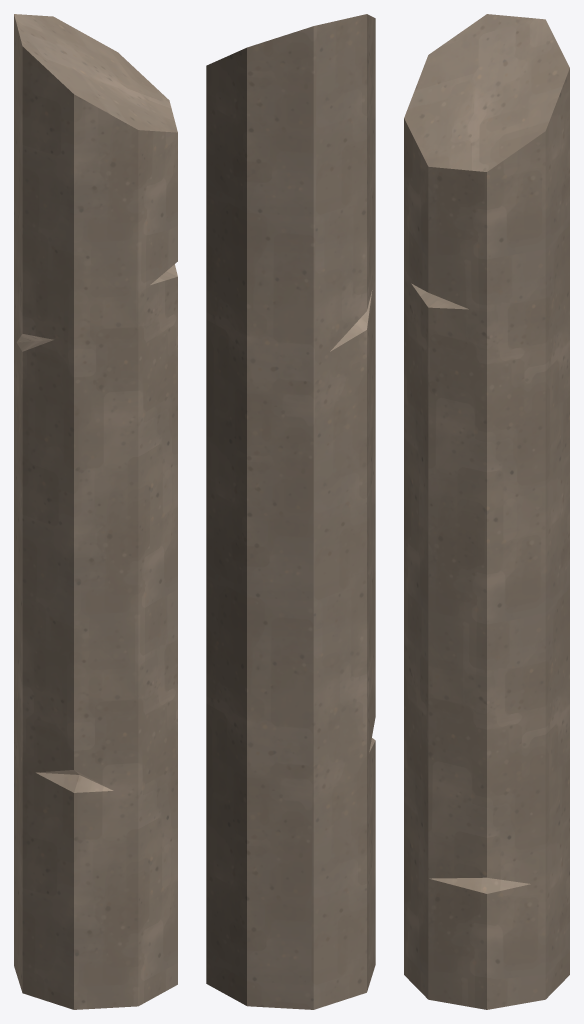
Rendered from Pillar_5.fbx.
3 views of the same model, side by side, from view 1: azimuth 30°, elevation 25°; view 2: azimuth 150°, elevation 25°; view 3: azimuth 270°, elevation 25° (orthographic). The views are drawn at different scales.
Visible parts, largest first — view 1: _Pillar_5; view 2: _Pillar_5; view 3: _Pillar_5.
Part boxes in pixels (bbox=[...]): _Pillar_5: bbox=[14, 14, 177, 1009]; _Pillar_5: bbox=[206, 14, 375, 1009]; _Pillar_5: bbox=[404, 14, 569, 1009].
Size of the model in its own units: 83.4 by 516 by 83.4.
